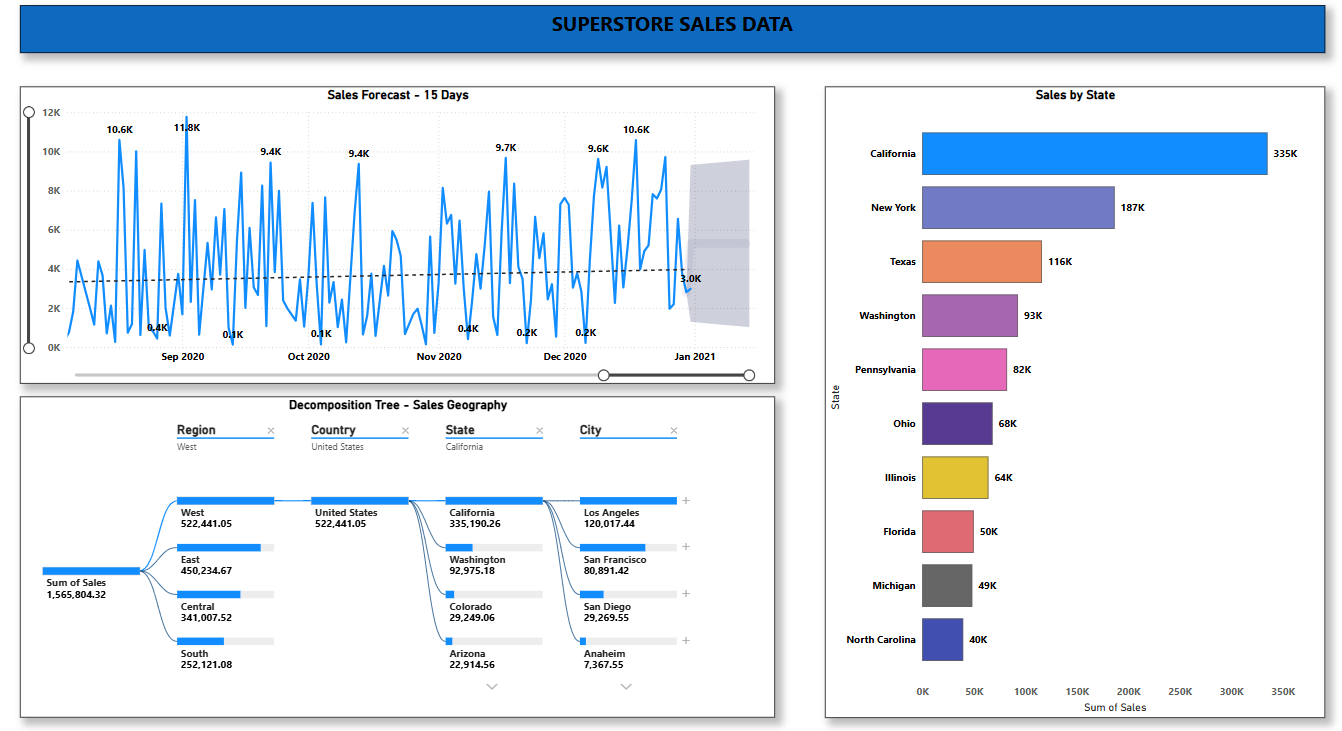

What the dashboard file says about the page in this screenshot:
{"tool":"powerbi","page":{"name":"Forecast + Geography Insight ","canvas":[1800,1000],"ordinal":1},"visuals":[{"type":"lineChart","title":"Sales Forecast - 15 Days","fields":{"Y":["Sum(SuperStore_Sales_Dataset.Sales)"],"Category":["SuperStore_Sales_Dataset.Order Date"]},"box":[26.8,124,1012.1,398.8],"z":0,"group":"g1"},{"type":"textbox","box":[25.3,15.1,1749.3,63.7],"z":1000},{"type":"clusteredBarChart","title":"Sales by State","fields":{"Category":["SuperStore_Sales_Dataset.State"],"Y":["Sum(SuperStore_Sales_Dataset.Sales)"]},"box":[1105.9,124,670.2,846.2],"z":2000,"group":"g1"},{"type":"decompositionTreeVisual","title":"Decomposition Tree - Sales Geography","fields":{"ExplainBy":["SuperStore_Sales_Dataset.Region","SuperStore_Sales_Dataset.Country","SuperStore_Sales_Dataset.State","SuperStore_Sales_Dataset.City","SuperStore_Sales_Dataset.Category","SuperStore_Sales_Dataset.Sub-Category"],"Analyze":["Sum(SuperStore_Sales_Dataset.Sales)"]},"box":[26.8,539.6,1012.1,430.6],"z":3000,"group":"g1"},{"type":"group","id":"g1","title":"Group 1","box":[26.8,124,1749.3,846.2],"z":3001}]}

Visuals, with their boxes in screenshot pixels (x1, y1, x2, y2), scaled from the page's 1800x1000 canvas onto the 1342x731 screenshot:
"Sales Forecast - 15 Days" lineChart: <region>20, 91, 775, 382</region>
textbox: <region>19, 11, 1323, 58</region>
"Sales by State" clusteredBarChart: <region>825, 91, 1324, 709</region>
"Decomposition Tree - Sales Geography" decompositionTreeVisual: <region>20, 394, 775, 709</region>
"Group 1" group: <region>20, 91, 1324, 709</region>
